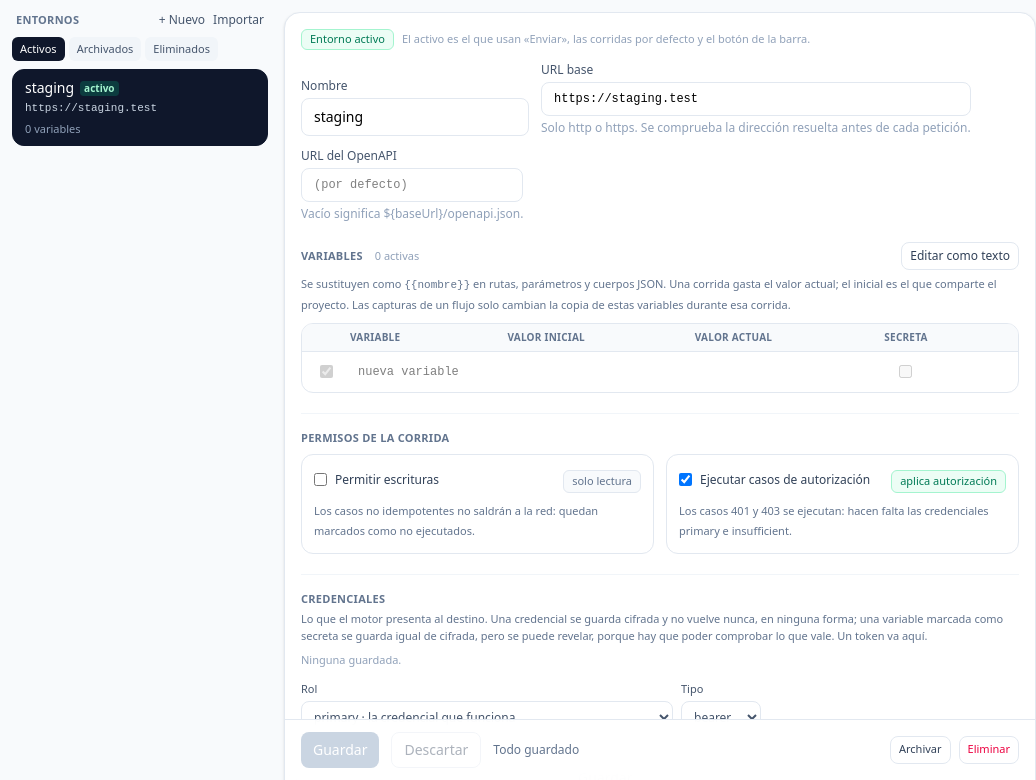
it: los tres filtros de los entornos › cada uno pide su lista, y las vacías lo dicen
Expected: the text "Entorno activo" is shown, [301, 29, 394, 50]
Click the tab "Archivados" at (105, 49), box [69, 36, 141, 61]
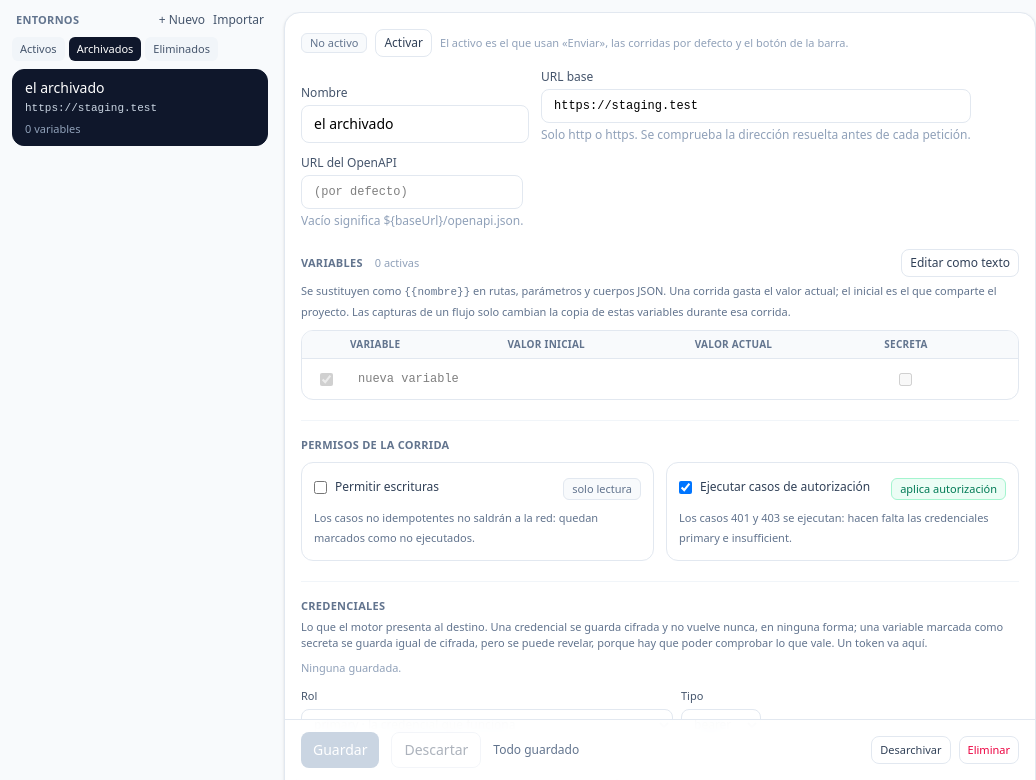
Expected: the text "el archivado" is shown, [25, 78, 104, 98]
Click the tab "Eliminados" at (182, 49), box [145, 36, 218, 61]
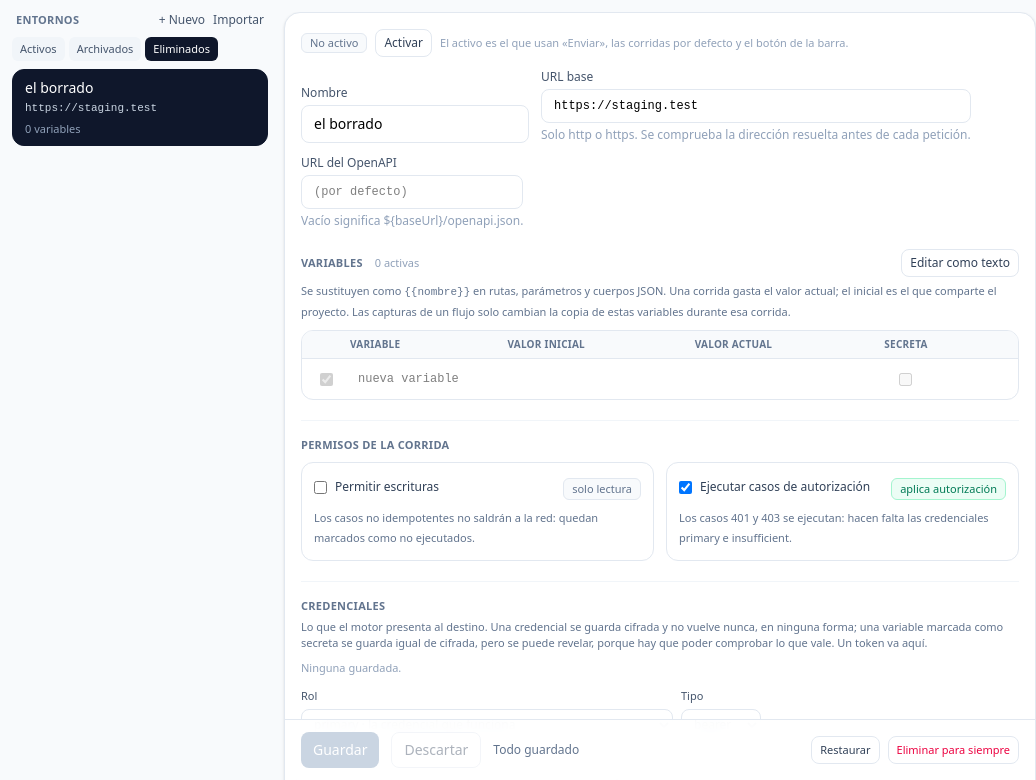
Expected: the text "el borrado" is shown, [25, 78, 94, 98]
